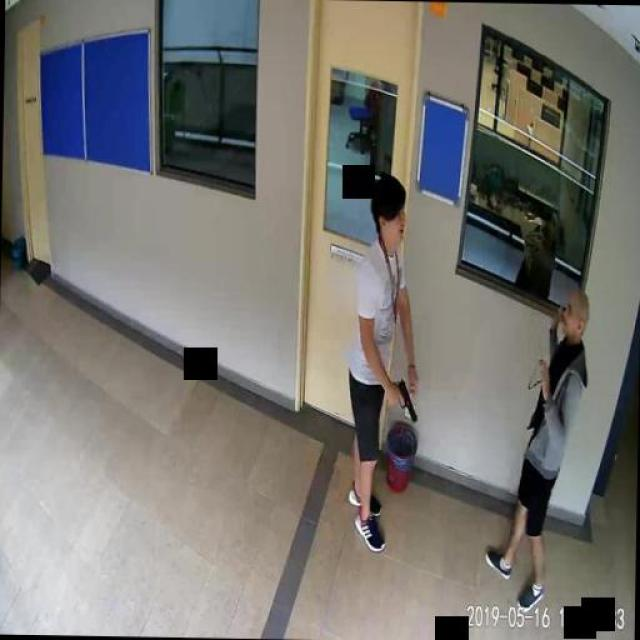gun: (390, 378, 416, 422)
